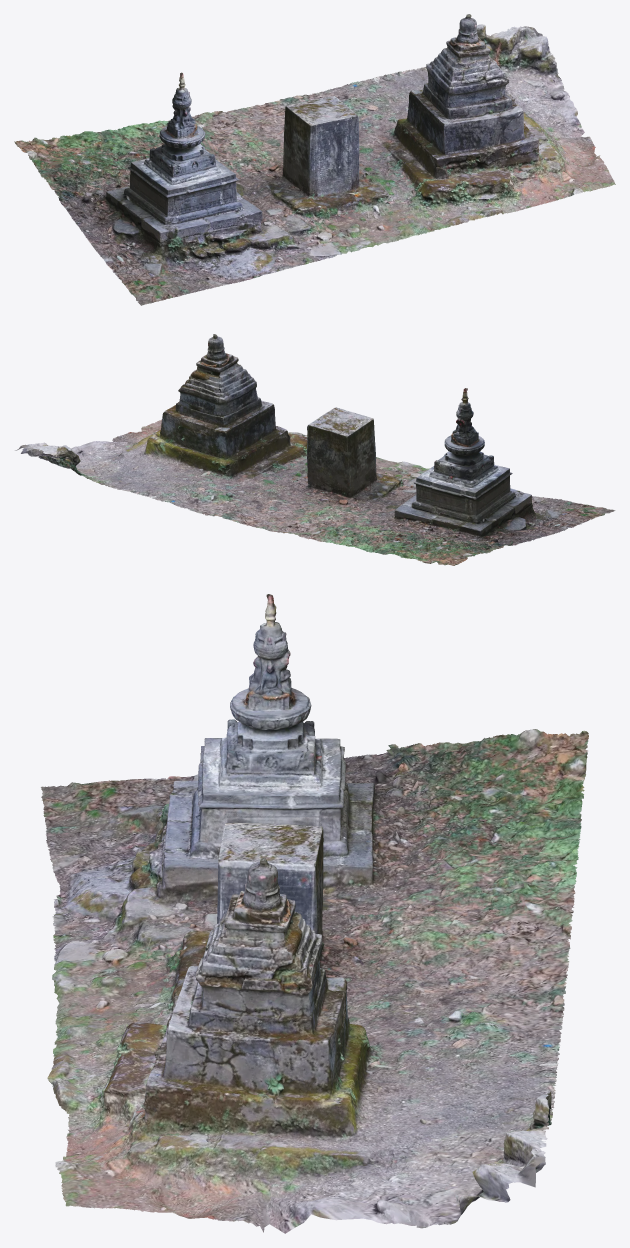
The model's file is bagdwar.glb.
3 renders of one model, top to bottom at view 1: azimuth 30°, elevation 25°; view 2: azimuth 150°, elevation 25°; view 3: azimuth 270°, elevation 25°, orthographic. The views are drawn at different scales.
Visible parts, largest first — view 1: Object_2; view 2: Object_2; view 3: Object_2.
Boxes of the visible parts, x1,y1,x2,y2 form: Object_2: [14, 14, 615, 305]; Object_2: [15, 334, 615, 565]; Object_2: [41, 594, 588, 1233].
Bounding box in the file's own units: 11.74 × 3.44 × 5.83.
1 material, 1 textured.
